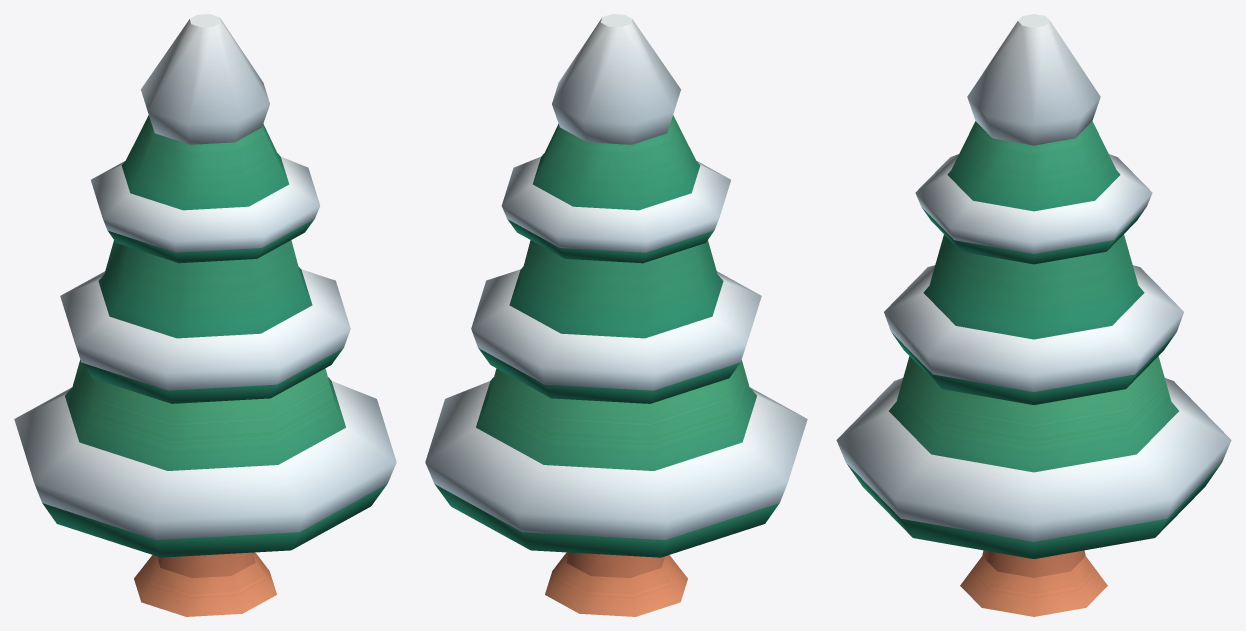
The model's file is tree-snow-b.glb.
3 views of the same model, side by side, from view 1: azimuth 30°, elevation 25°; view 2: azimuth 150°, elevation 25°; view 3: azimuth 270°, elevation 25° (orthographic).
Parts seen in each view (by area): view 1: tree-snow-b; view 2: tree-snow-b; view 3: tree-snow-b.
Part boxes in pixels (x1,y1,x2,y2): tree-snow-b: [14, 14, 396, 616]; tree-snow-b: [425, 14, 807, 616]; tree-snow-b: [836, 14, 1231, 616].
Bounding box in the file's own units: 1.25 × 1.97 × 1.25.
1 material, 1 textured.
